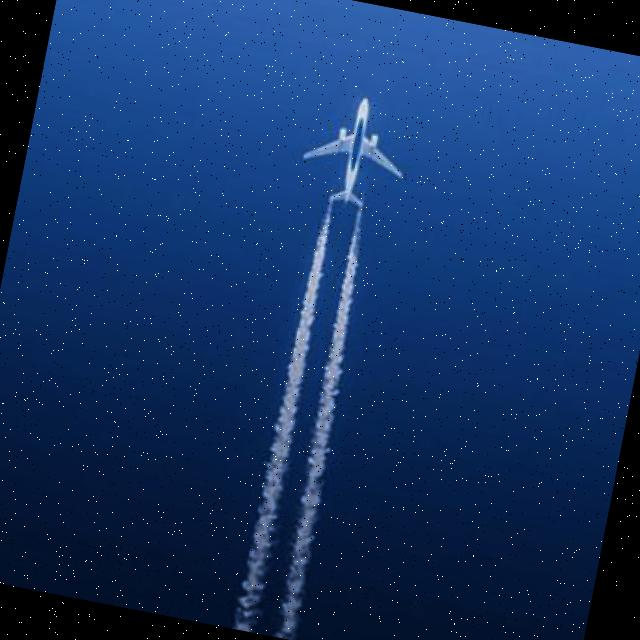Ct: (199, 77, 437, 640)
